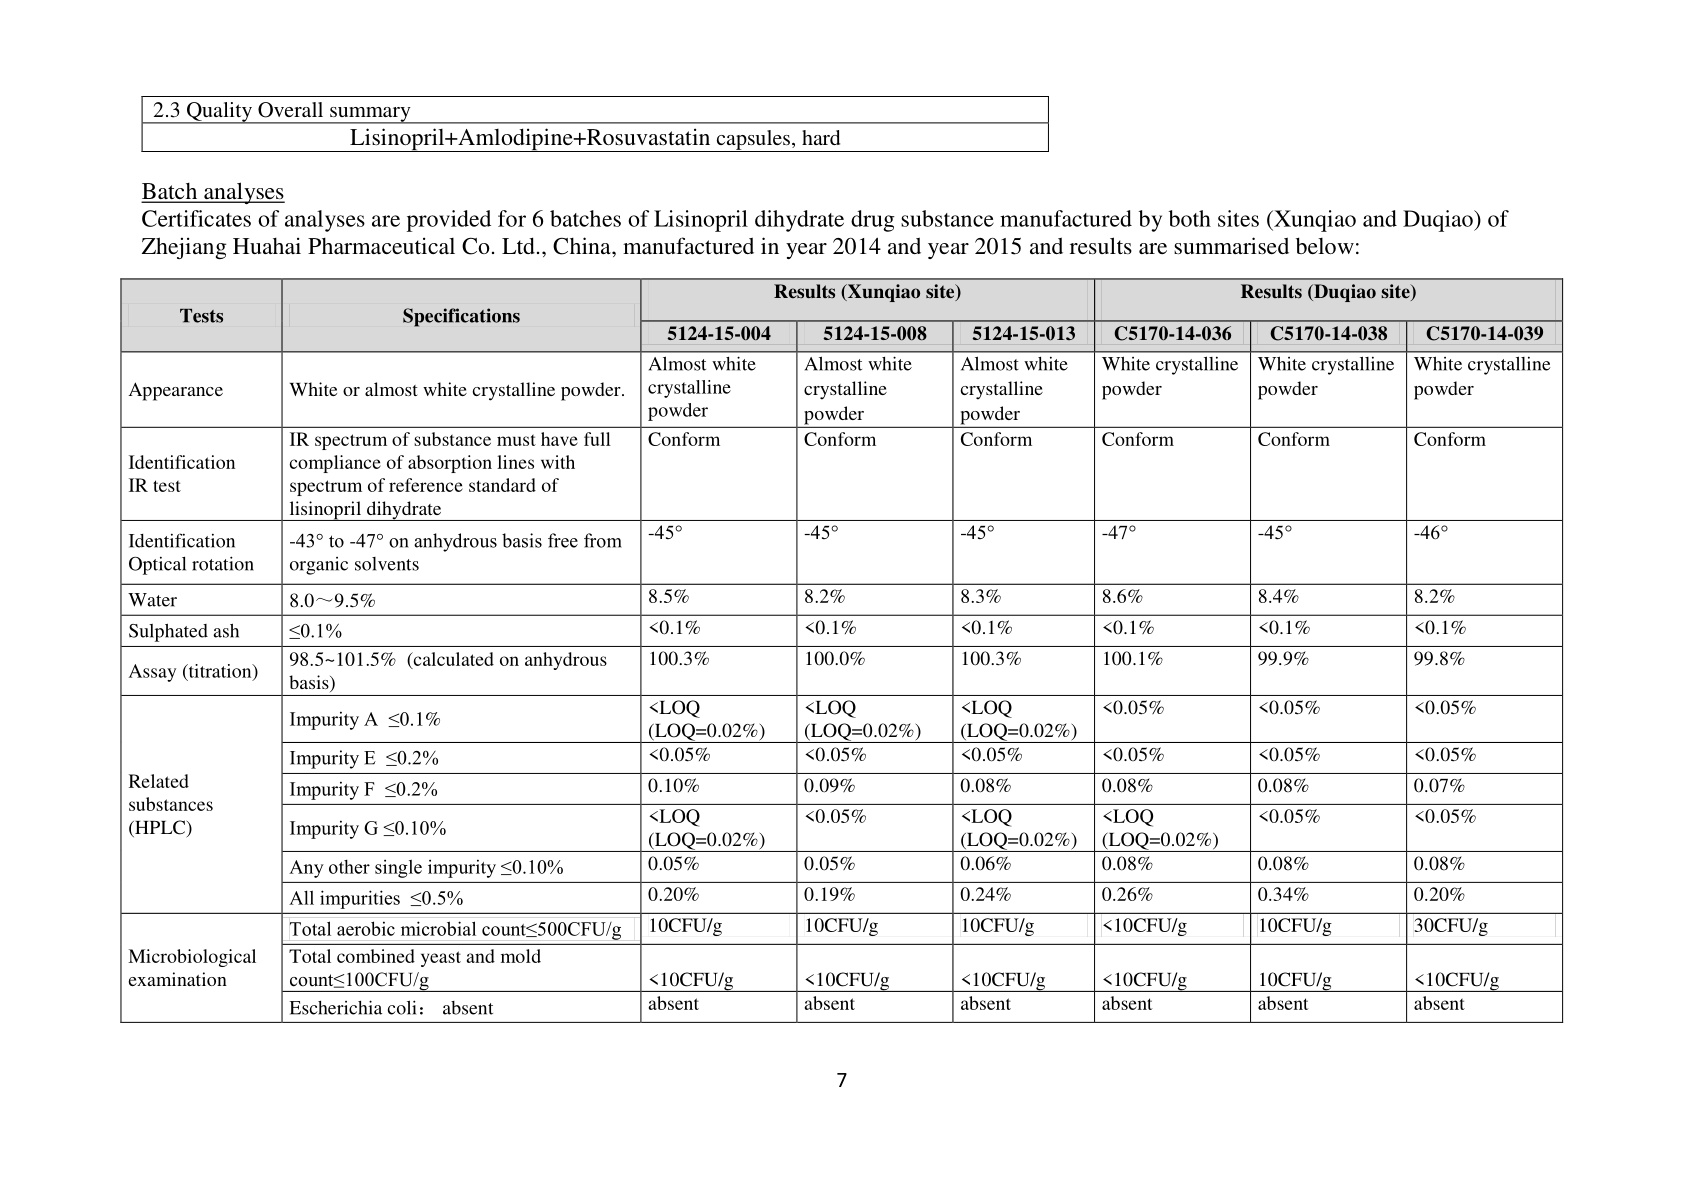full_lined: (140, 95, 1049, 153)
merged_cells: (119, 276, 1564, 1023)
